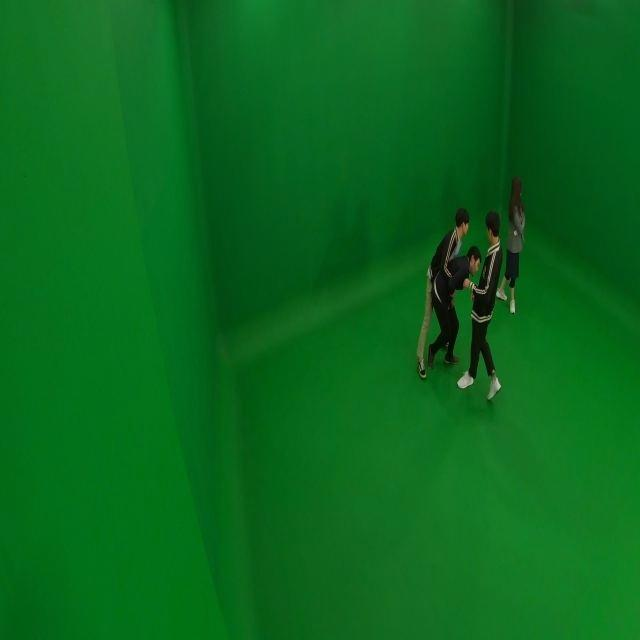fight: (414, 205, 482, 388), (455, 210, 507, 404)
non-fight: (494, 174, 532, 315)
